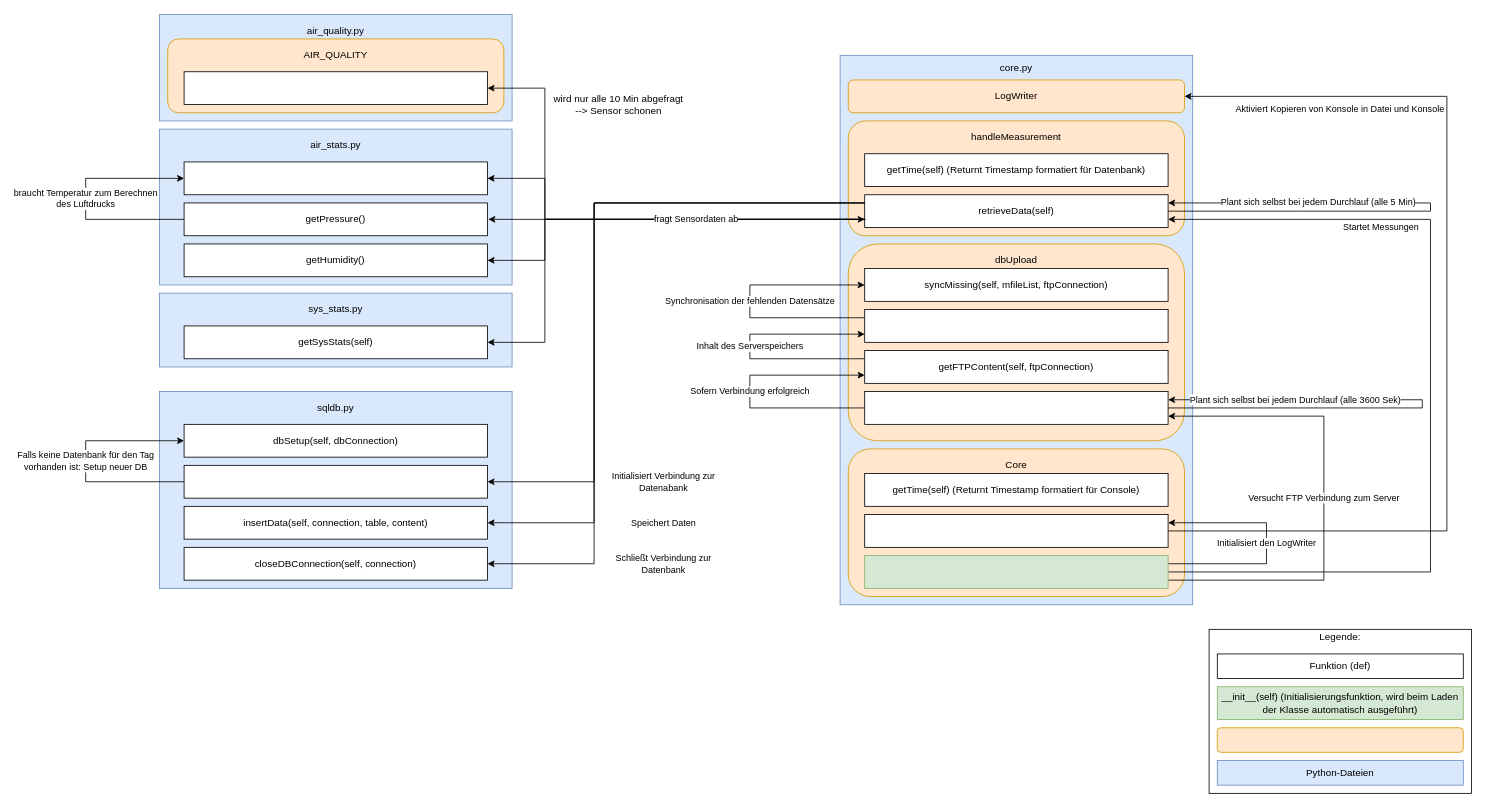
Some shapes in this 1494 by 808 pixel diagram are drawn without their labels. The box of each missing label's shape, as (x1, y1, x2, y2) in pixels:
__init__(self): (864, 555, 1168, 588)
checkContent(self, rFileList, ftpConnection): (864, 309, 1168, 342)
getDBConnection(self): (183, 465, 487, 498)
getFTPConnection(self): (864, 391, 1168, 424)
getTemperaure(): (183, 161, 487, 195)
Klassen (class): (1216, 727, 1463, 752)
query(self): (183, 71, 487, 105)
writeLog(self): (864, 514, 1168, 547)
